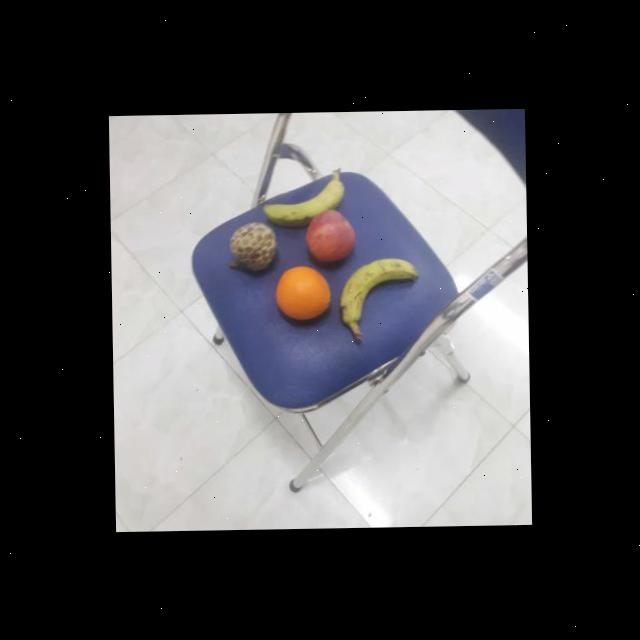Sakya fruit: (230, 218, 281, 271)
apple: (300, 209, 356, 264)
banana: (336, 258, 422, 325), (256, 172, 346, 226)
orange: (274, 264, 332, 322)
